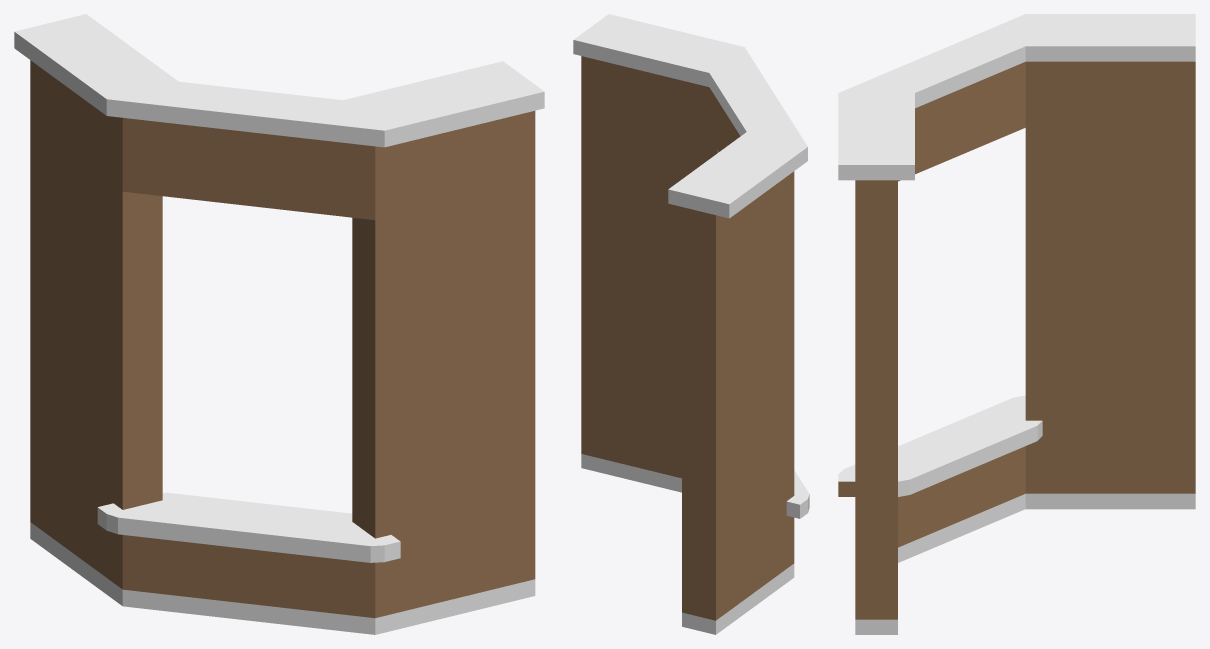
Rendered from SM_200x300_Window_BevelCorner.fbx.
3 views of the same model, side by side, from view 1: azimuth 30°, elevation 25°; view 2: azimuth 150°, elevation 25°; view 3: azimuth 270°, elevation 25° (orthographic). The views are drawn at different scales.
Parts seen in each view (by area): view 1: SM_200x300_Window_BevelCorner; view 2: SM_200x300_Window_BevelCorner; view 3: SM_200x300_Window_BevelCorner.
Boxes of the visible parts, left/top/right/bottom form: SM_200x300_Window_BevelCorner: left=14, top=14, right=544, bottom=634; SM_200x300_Window_BevelCorner: left=573, top=14, right=809, bottom=634; SM_200x300_Window_BevelCorner: left=838, top=14, right=1195, bottom=634.
Size of what is drawn, in the model's own units: 210 by 210 by 305.
